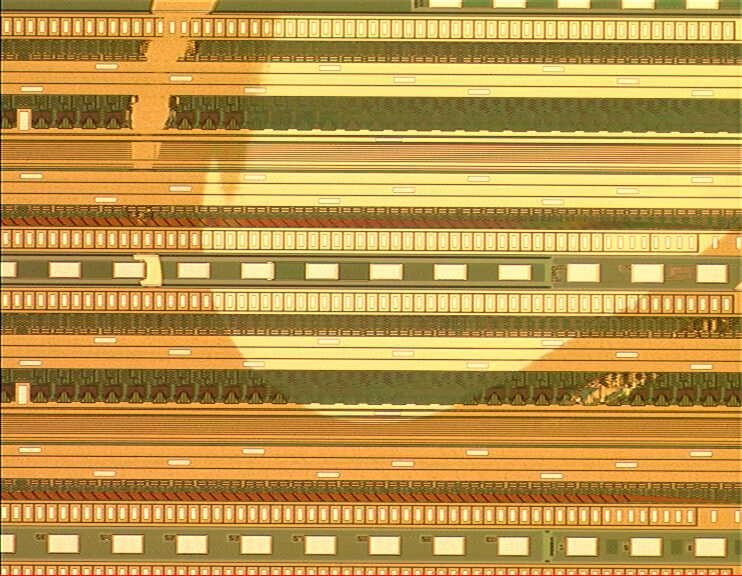COATING BAD: (109, 1, 742, 428)
